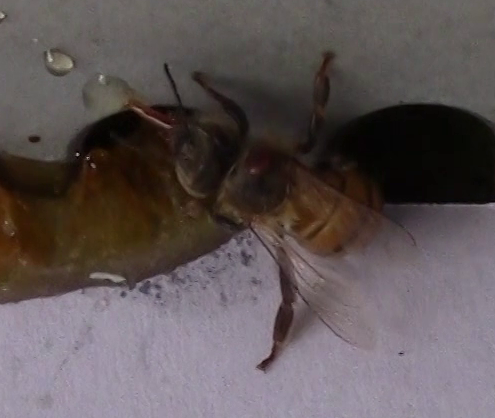Varroa destructor: (242, 151, 277, 175)
